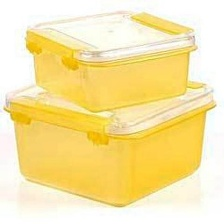plastic_box: (0, 74, 224, 213), (17, 0, 202, 116)
